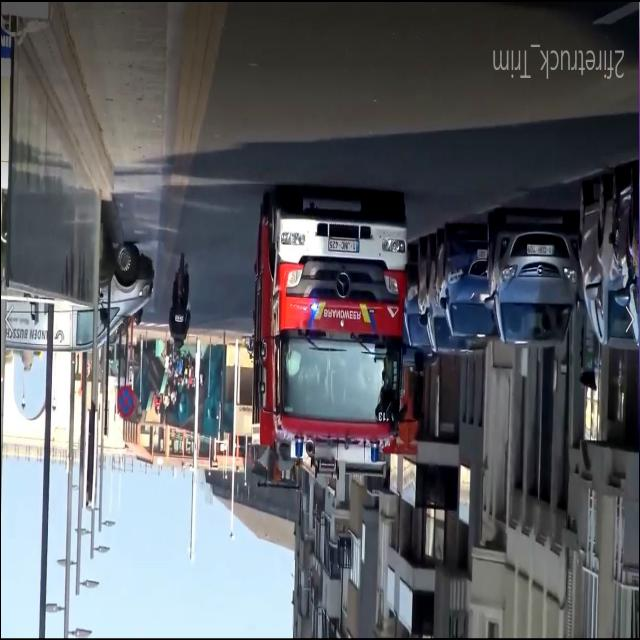emergency: (248, 186, 414, 470)
